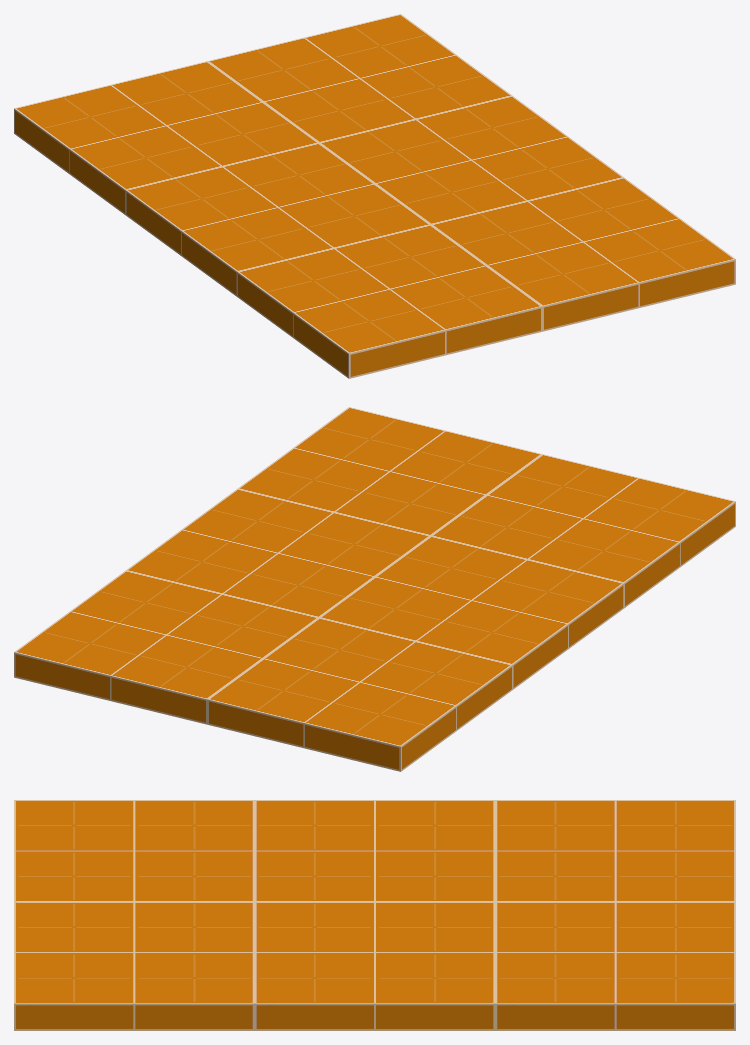
Rendered from Plate8_2x3.obj.
3 views of the same model, one above another, from view 1: azimuth 30°, elevation 25°; view 2: azimuth 150°, elevation 25°; view 3: azimuth 270°, elevation 25° (orthographic). The views are drawn at different scales.
Parts seen in each view (by area): view 1: Plate8_2x3_Cube.376; view 2: Plate8_2x3_Cube.376; view 3: Plate8_2x3_Cube.376.
Part boxes in pixels (box(x1,y1,x2,y2)): Plate8_2x3_Cube.376: box(14, 14, 735, 378); Plate8_2x3_Cube.376: box(14, 407, 735, 771); Plate8_2x3_Cube.376: box(14, 800, 735, 1030).
Bounding box in the file's own units: 2 × 0.125 × 3.
1 material, 1 textured.
